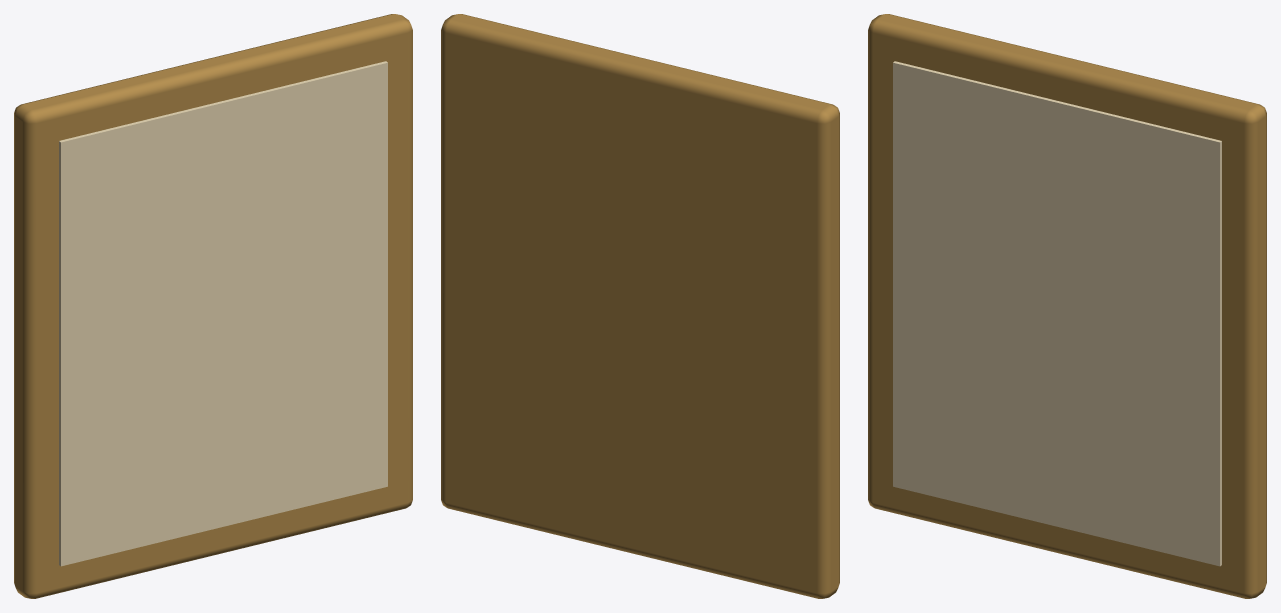
The model's file is framed_picture.glb.
3 renders of one model, left to right at view 1: azimuth 30°, elevation 25°; view 2: azimuth 150°, elevation 25°; view 3: azimuth 330°, elevation 25°, orthographic.
Visible parts, largest first — view 1: canvas, main; view 2: main; view 3: canvas, main.
Part boxes in pixels (x1,y1,x2,y2): canvas: (59, 61, 387, 566); main: (14, 14, 412, 598); main: (441, 14, 839, 598); canvas: (893, 61, 1221, 566); main: (868, 14, 1266, 598).
Size of the model in its own units: 0.5 by 0.6 by 0.0445.
